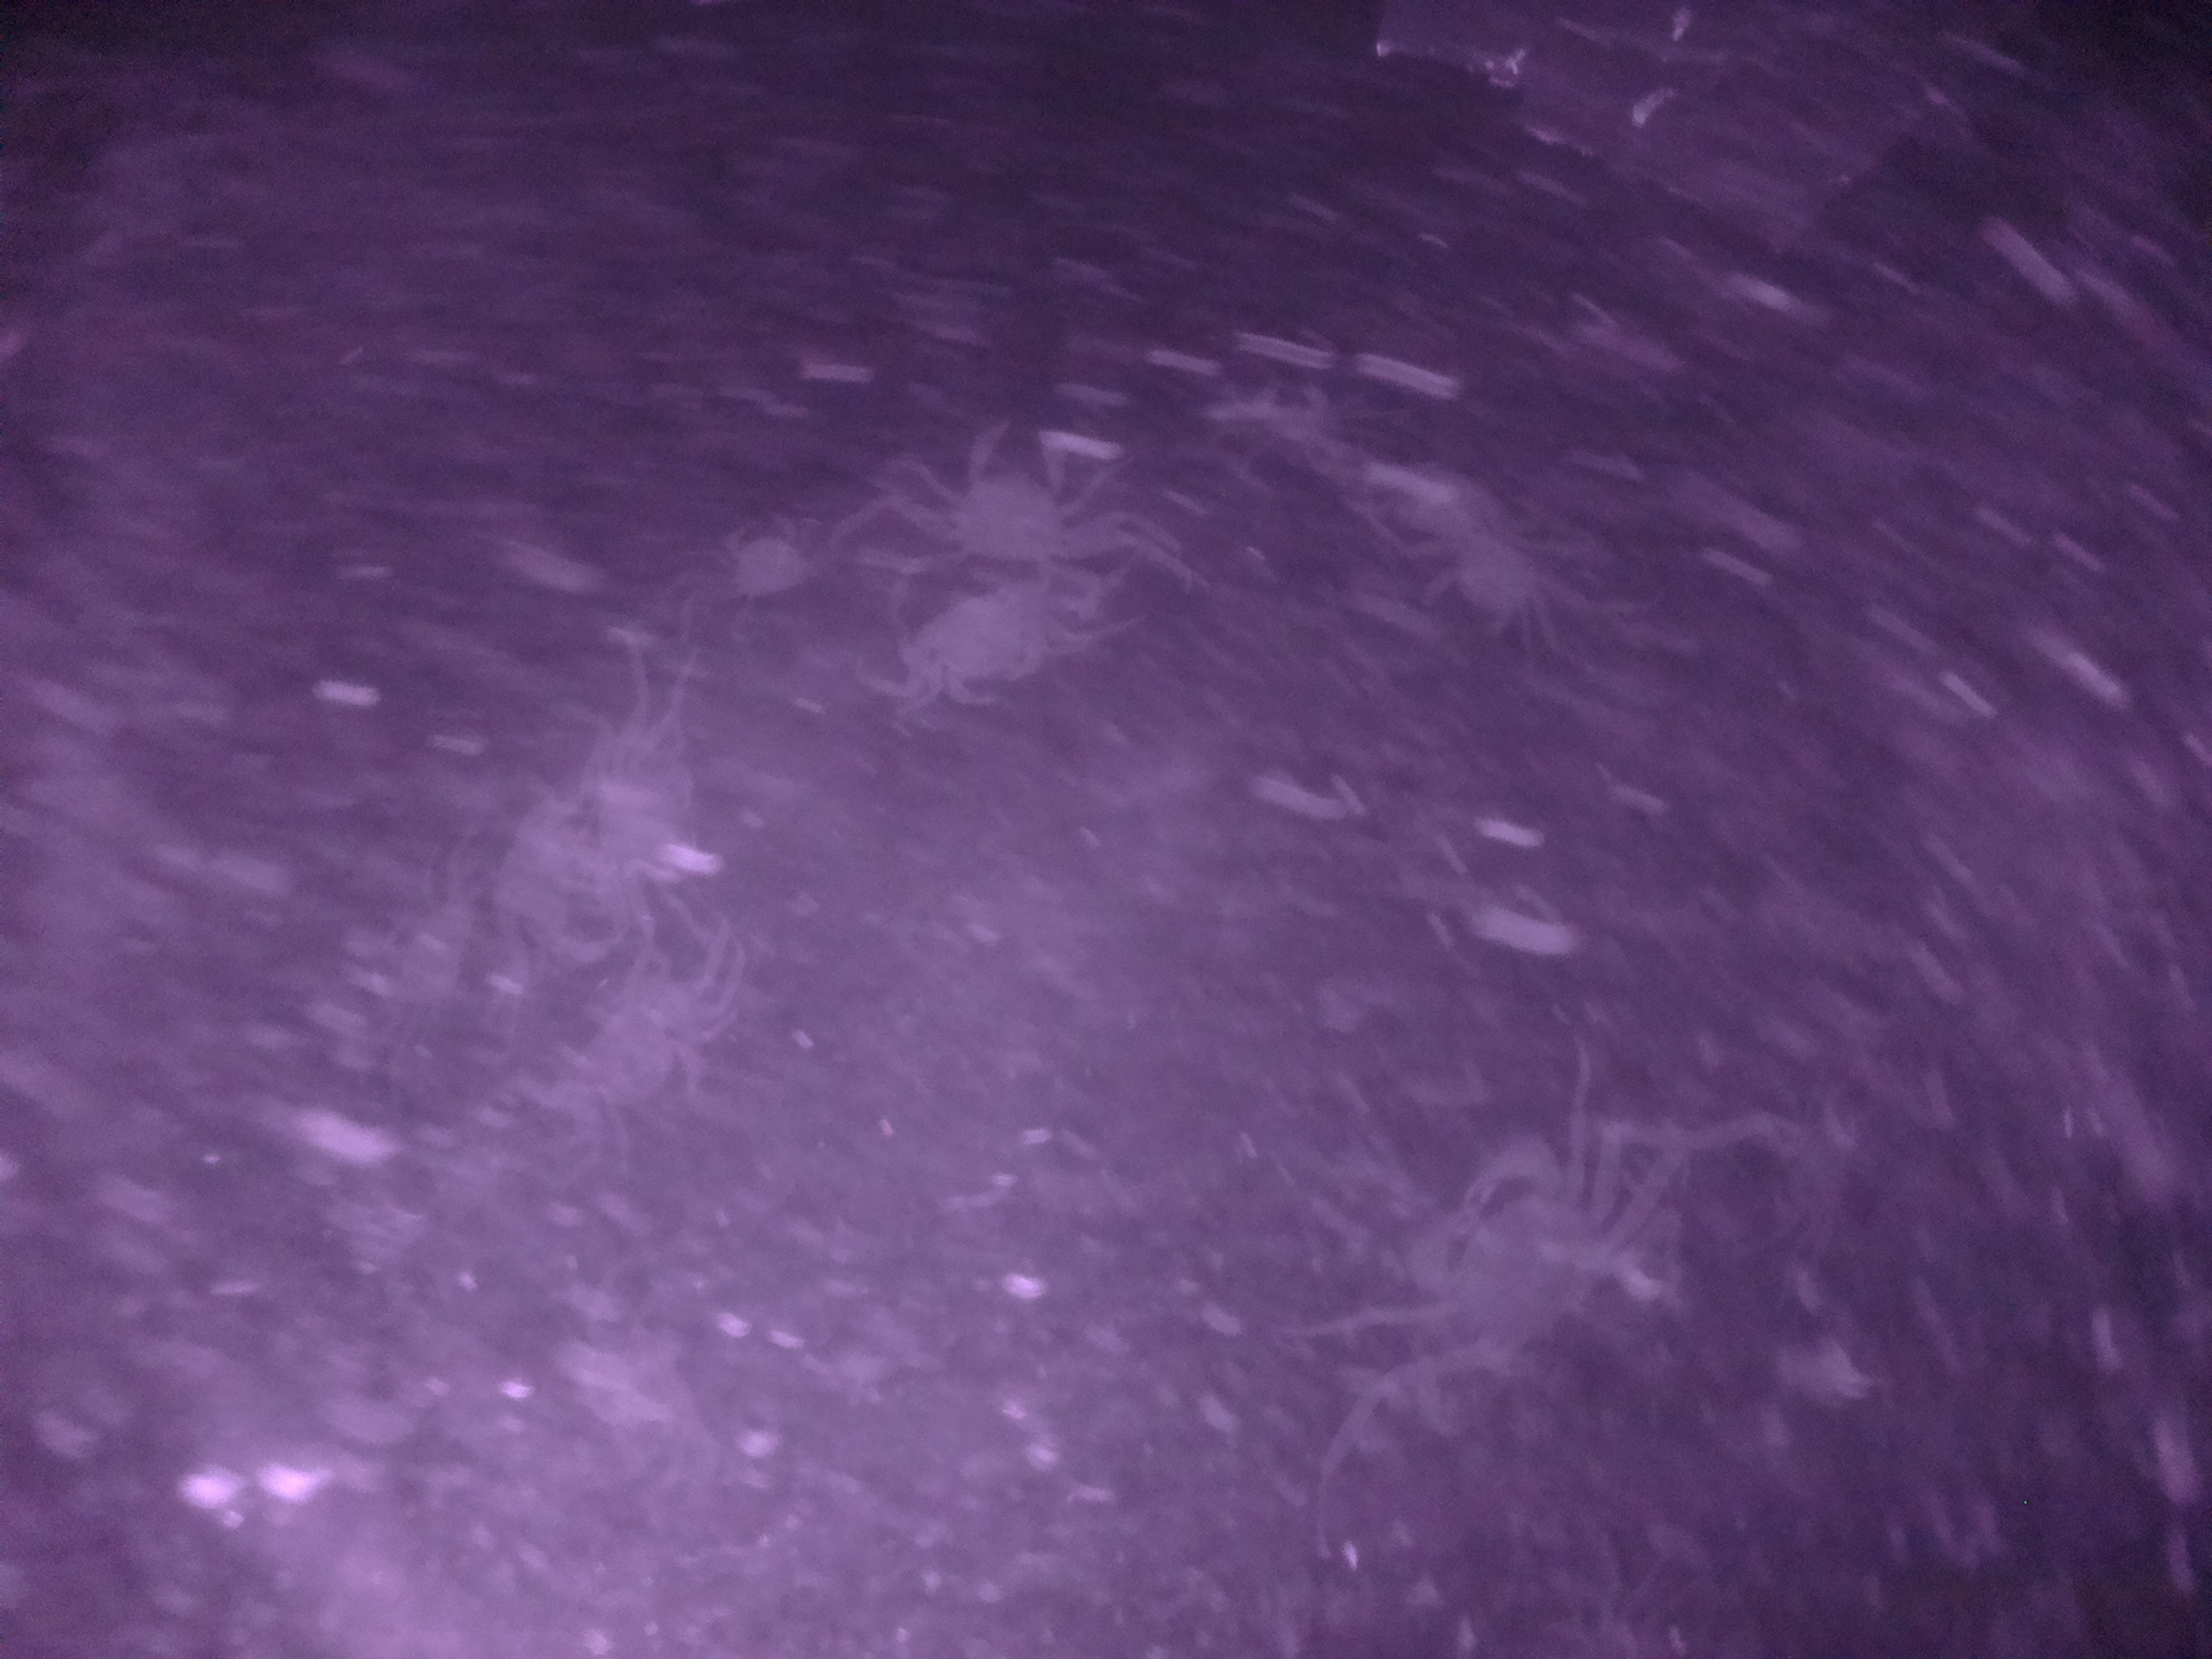Crab: (935, 401, 1109, 603)
